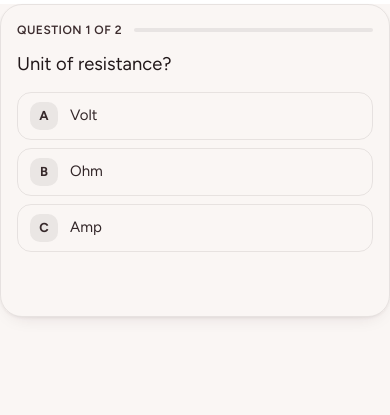
Test: quiz block › plays a question at a time, explains each answer and scores the end
The image size is (390, 415).
Expected: the text "Question 1 of 2" is shown, x1=17 y1=21 x2=122 y2=39
Click the button "A Volt": [44, 116] box x1=17 y1=92 x2=373 y2=140
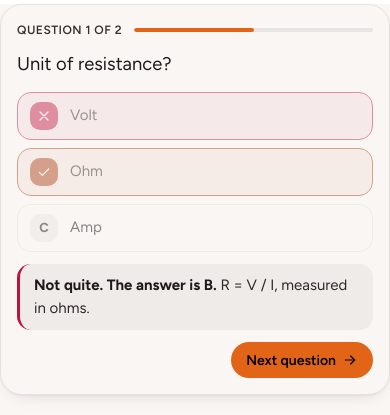
Now the message reads "Not quite. The answer is B. R = V / I, measured in ohms.", box x1=17 y1=264 x2=373 y2=330
Click the button "Next question": [302, 360] box x1=231 y1=342 x2=373 y2=378
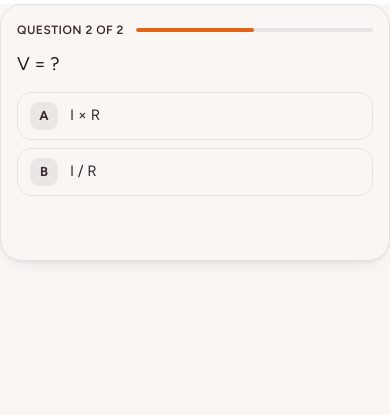
Click the button "A I × R": [85, 115] box x1=17 y1=92 x2=373 y2=140
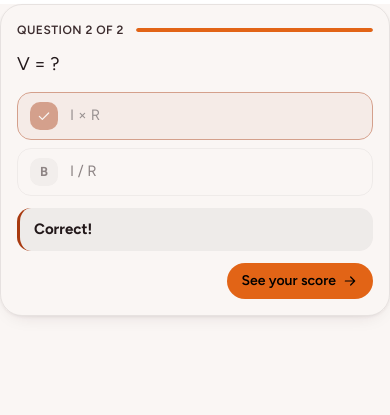
Now the message reads "Correct!", box x1=34 y1=220 x2=92 y2=238
Click the button "See your score": [300, 281] box x1=226 y1=263 x2=373 y2=299
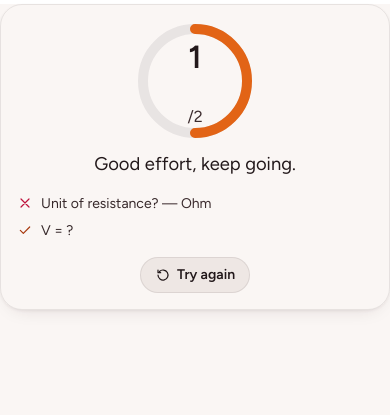
Click the button "Try again": [195, 275] box x1=140 y1=257 x2=250 y2=293
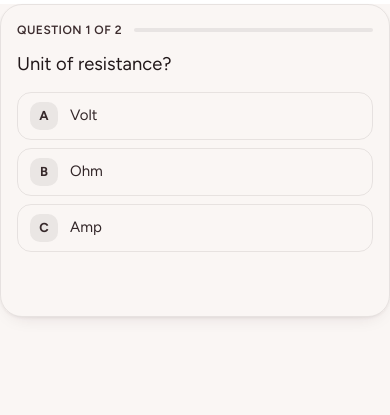
Now the text "Question 1 of 2" is shown, box x1=17 y1=21 x2=122 y2=39
